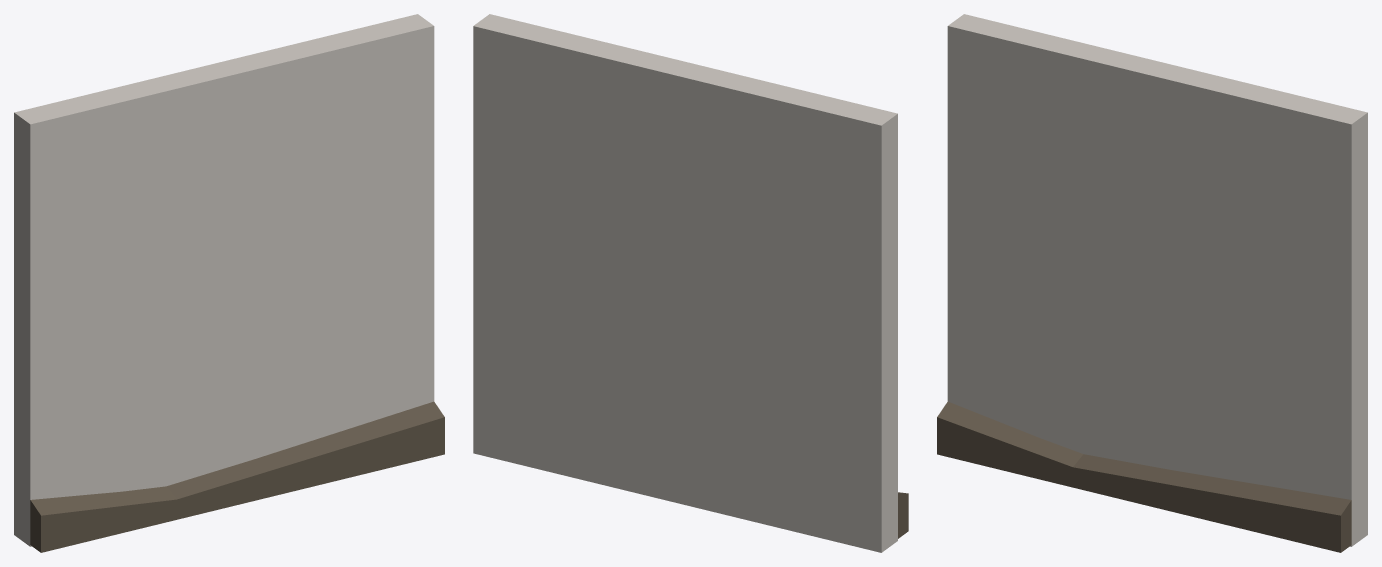
Rendered from _ROOF_TRIANGLE_WOOD_1.fbx.
The picture shows the model from 3 angles, left to right: view 1: azimuth 30°, elevation 25°; view 2: azimuth 150°, elevation 25°; view 3: azimuth 330°, elevation 25°; orthographic projection.
Visible parts, largest first — view 1: ROOF_TRIANGLE_WOOD_1; view 2: ROOF_TRIANGLE_WOOD_1; view 3: ROOF_TRIANGLE_WOOD_1.
Part boxes in pixels (x1,y1,x2,y2): ROOF_TRIANGLE_WOOD_1: (14, 14, 444, 552); ROOF_TRIANGLE_WOOD_1: (473, 14, 908, 552); ROOF_TRIANGLE_WOOD_1: (937, 14, 1367, 552).
Bounding box in the file's own units: 100 × 100 × 11.57.
